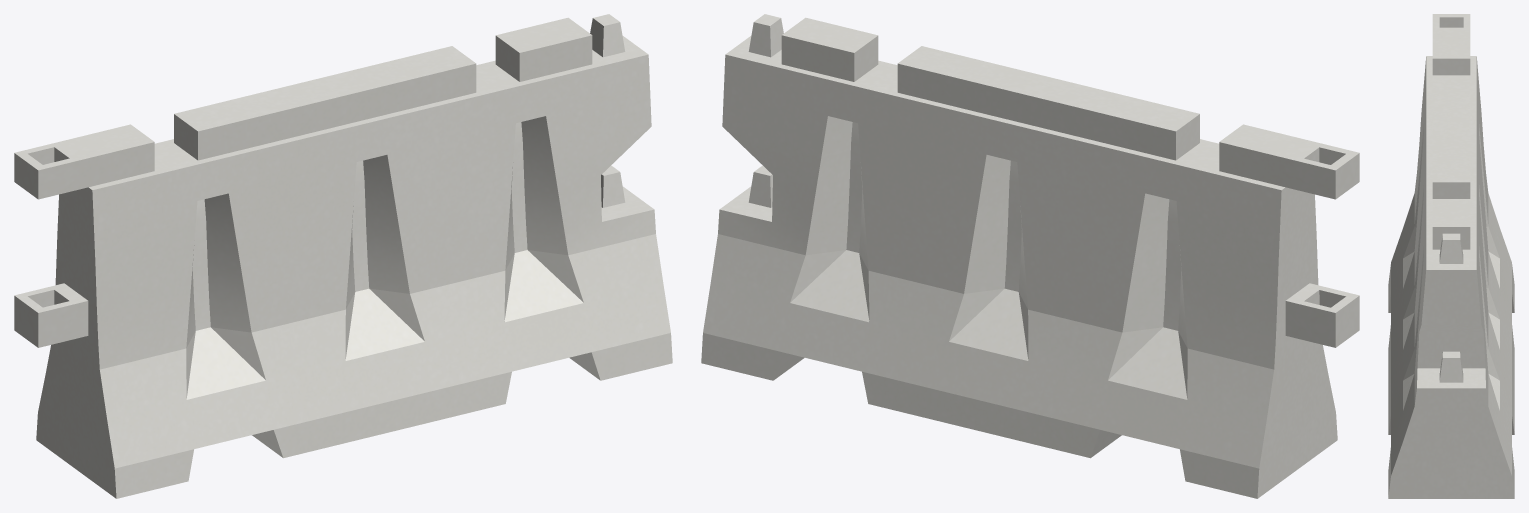
Rendered from whiteBarrier.fbx.
The picture shows the model from 3 angles, left to right: view 1: azimuth 30°, elevation 25°; view 2: azimuth 150°, elevation 25°; view 3: azimuth 270°, elevation 25°; orthographic projection. The views are drawn at different scales.
Visible parts, largest first — view 1: barrier1; view 2: barrier1; view 3: barrier1.
Part boxes in pixels (<box>): barrier1: <box>14,14,672,498</box>; barrier1: <box>701,14,1359,498</box>; barrier1: <box>1388,14,1514,498</box>.
Bounding box in the file's own units: 218 × 110 × 50.
Materials: 1 (1 with a texture image).
